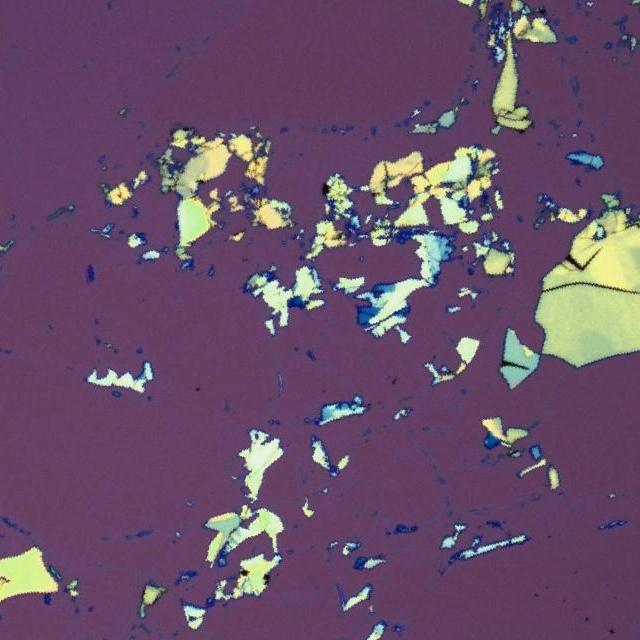monolayer-eWW4: (222, 397, 231, 414)
